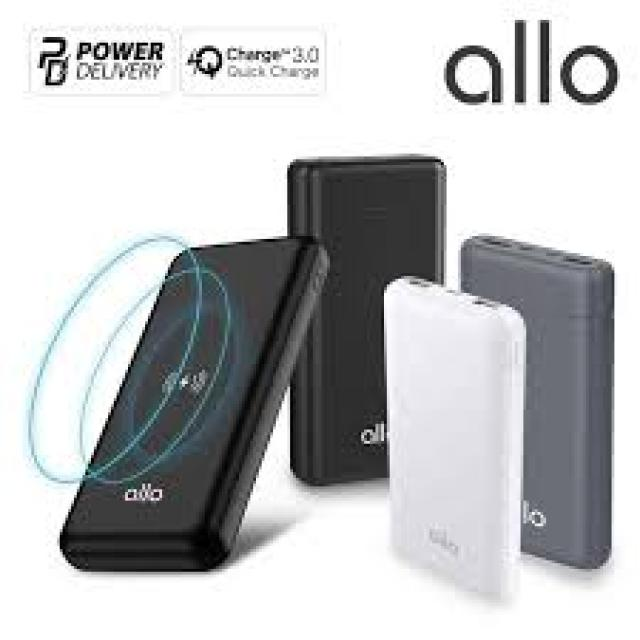power_bank: (57, 233, 326, 575), (286, 153, 455, 497), (459, 229, 614, 579), (384, 272, 526, 612)
